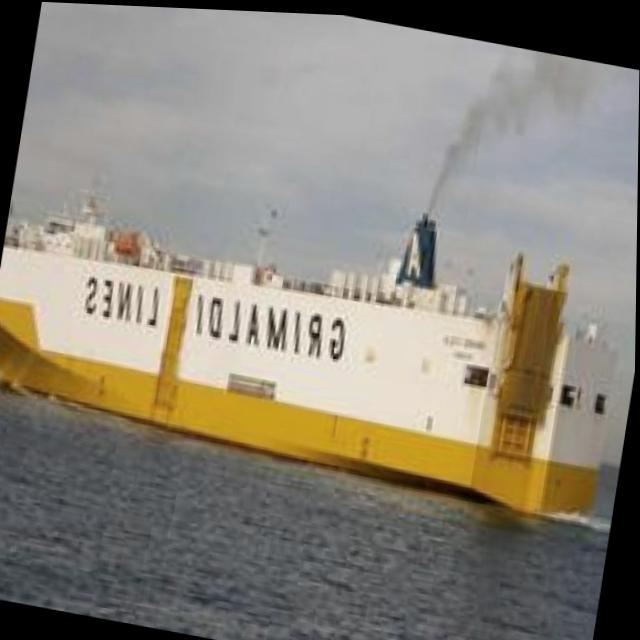ship2: (0, 202, 614, 523)
